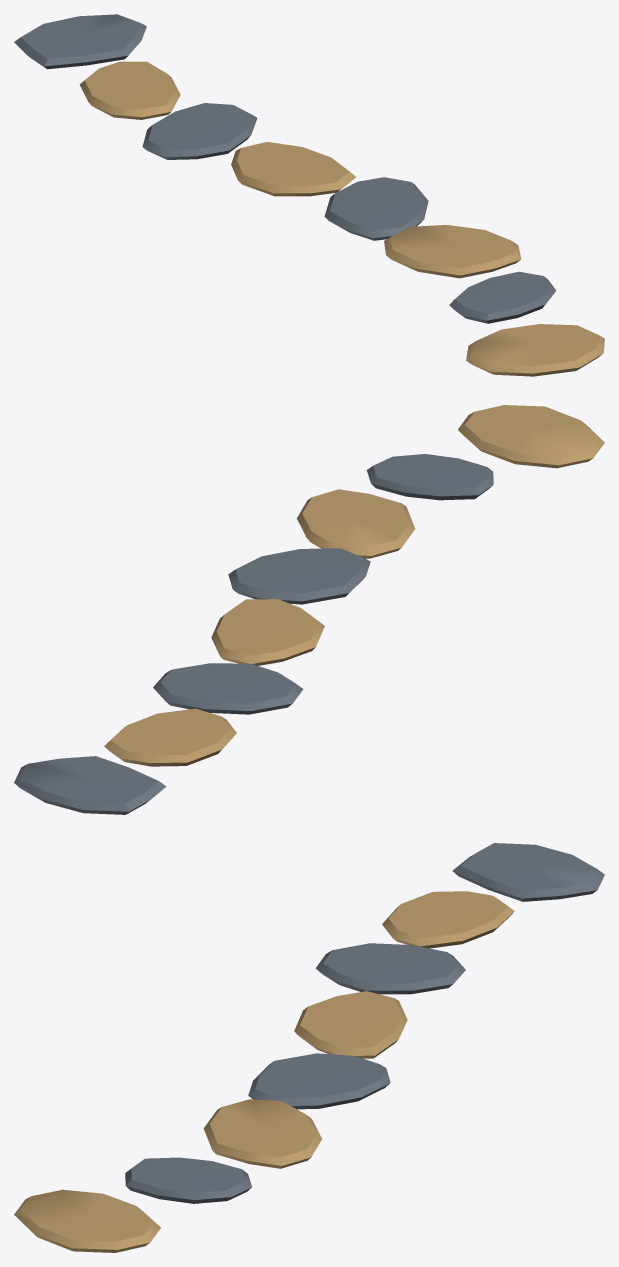
File: deco_decal_stepping_path.fbx
The picture shows the model from 3 angles, top to bottom: view 1: azimuth 30°, elevation 25°; view 2: azimuth 150°, elevation 25°; view 3: azimuth 330°, elevation 25°; orthographic projection. The views are drawn at different scales.
Visible parts, largest first — view 1: Decal_SteppingPath_Stones; view 2: Decal_SteppingPath_Stones; view 3: Decal_SteppingPath_Stones.
Part boxes in pixels (x1,y1,x2,y2): Decal_SteppingPath_Stones: (14, 14, 604, 376); Decal_SteppingPath_Stones: (14, 405, 604, 814); Decal_SteppingPath_Stones: (14, 843, 604, 1252).
Bounding box in the file's own units: 116 × 6.3 × 537.
